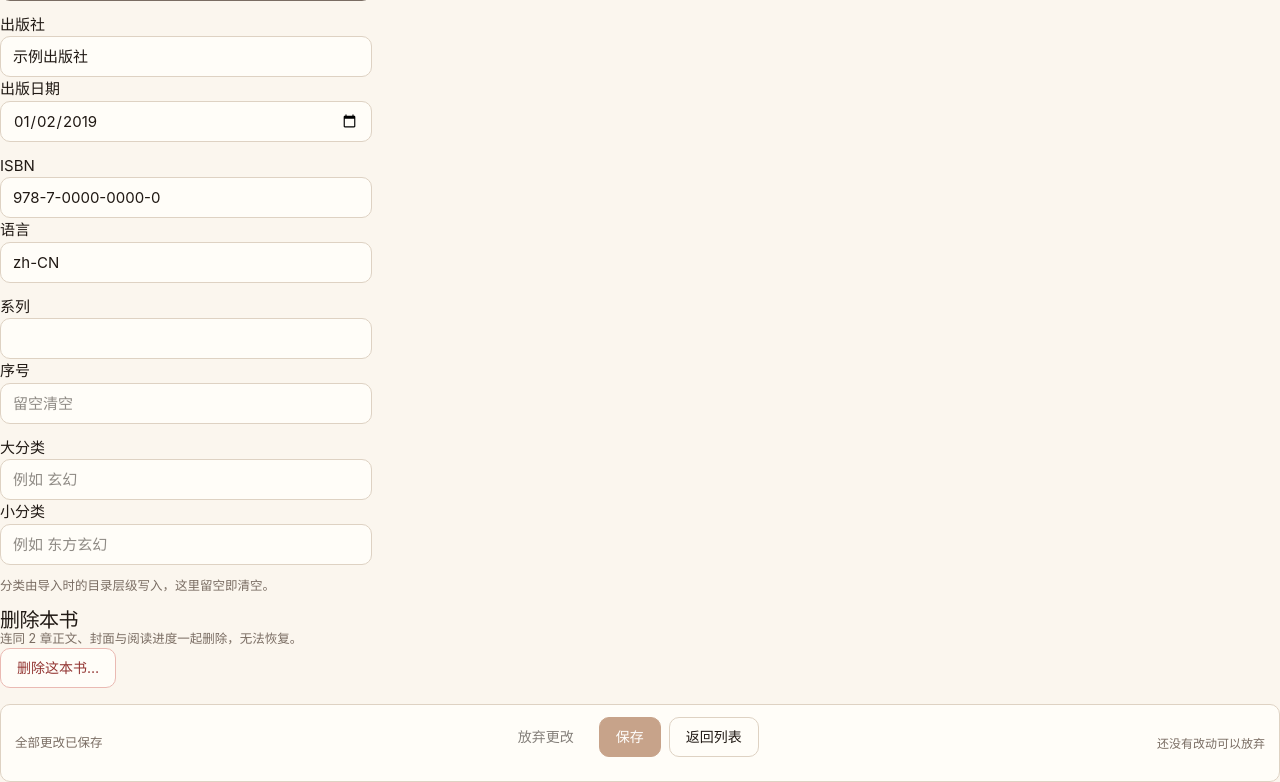
Test case: 单书管理页 › 删除本书要手抄书名才解锁
The width and height of the screenshot is (1280, 782).
(page scrolled)
Click the button with test id "admin-book-delete" at [58, 668], box x1=0 y1=648 x2=116 y2=688
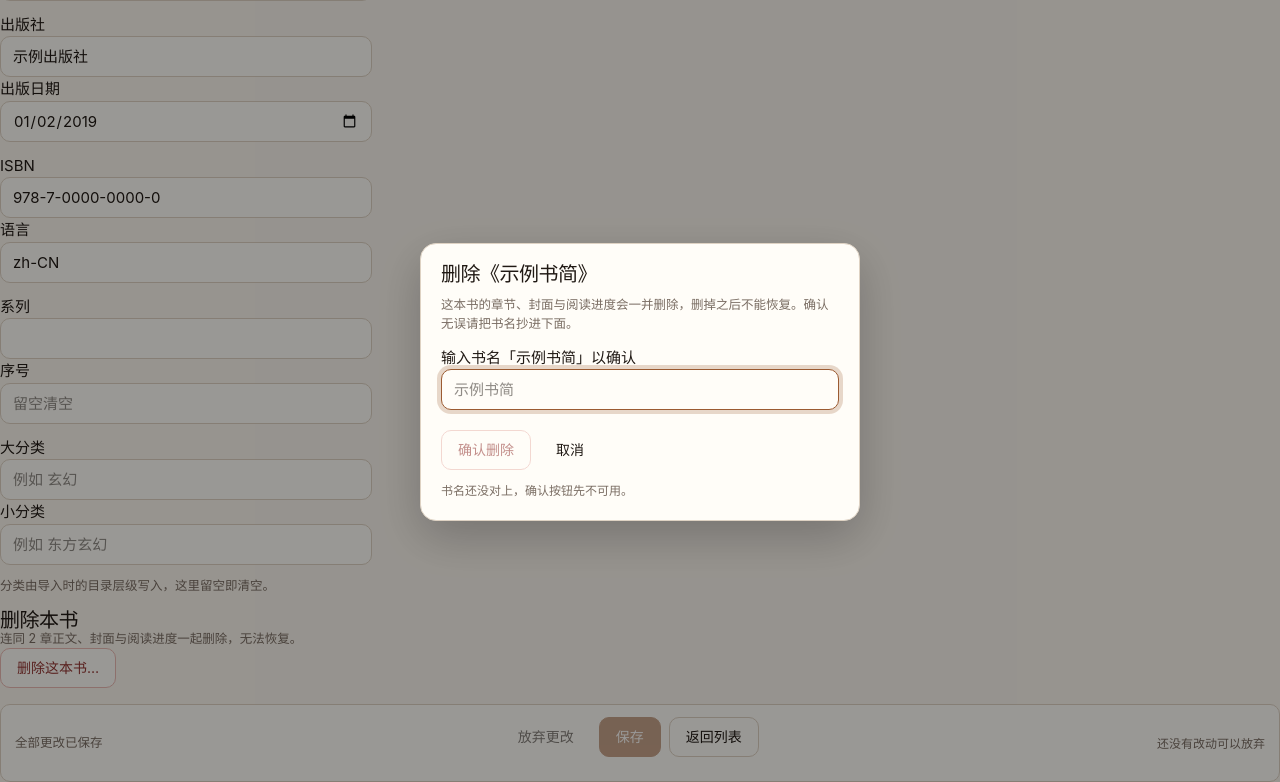
Now the dialog with test id "delete-dialog" shows "示例书简", box x1=500 y1=263 x2=578 y2=285
